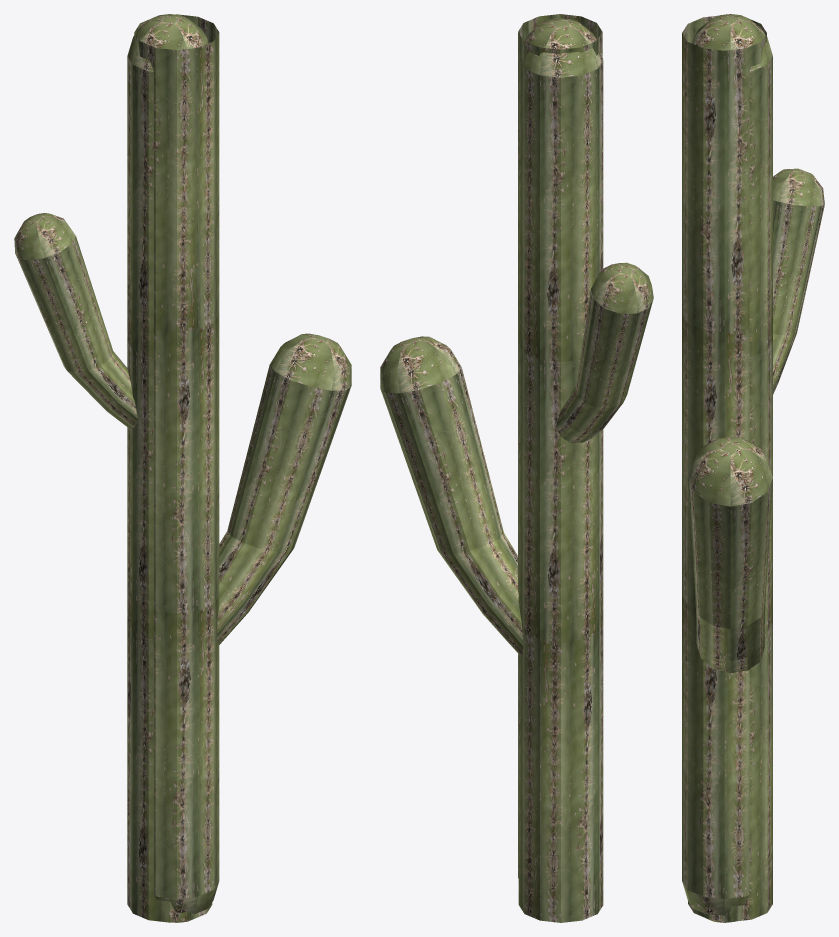
File: FUCKING CACTUS.fbx
The picture shows the model from 3 angles, left to right: view 1: azimuth 30°, elevation 25°; view 2: azimuth 150°, elevation 25°; view 3: azimuth 270°, elevation 25°; orthographic projection.
Visible parts, largest first — view 1: cactus2, cactus; view 2: cactus2, cactus; view 3: cactus, cactus2.
Part boxes in pixels (x1=…): cactus2: x1=14, y1=14, x2=351, y2=922; cactus: x1=134, y1=14, x2=219, y2=922; cactus2: x1=380, y1=18, x2=653, y2=922; cactus: x1=518, y1=14, x2=602, y2=878; cactus: x1=682, y1=15, x2=766, y2=922; cactus2: x1=688, y1=14, x2=824, y2=921.
Size of the model in its own units: 0.6708 by 1.95 by 0.2804.
